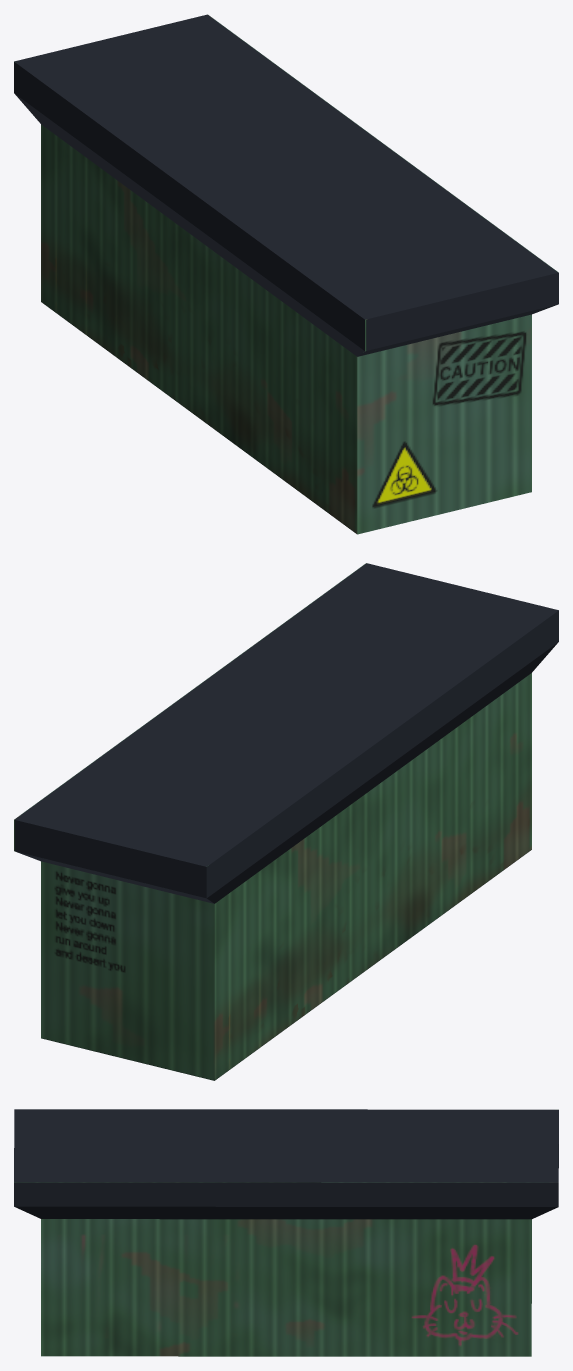
The model's file is container.fbx.
3 renders of one model, top to bottom at view 1: azimuth 30°, elevation 25°; view 2: azimuth 150°, elevation 25°; view 3: azimuth 270°, elevation 25°, orthographic. The views are drawn at different scales.
Visible parts, largest first — view 1: Cube.031; view 2: Cube.031; view 3: Cube.031.
Boxes of the visible parts, x1,y1,x2,y2 form: Cube.031: [14, 14, 558, 534]; Cube.031: [14, 563, 558, 1080]; Cube.031: [14, 1109, 558, 1356].
Size of the model in its own units: 573 by 646 by 1795.
Materials: 1 (1 with a texture image).
